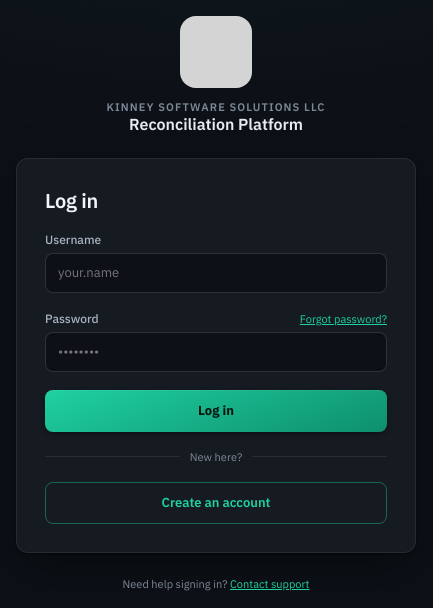
Test case: App › navigates from login to the Contact Support placeholder via the footer link
Click the link "Contact support": point(270, 584) [230,576,309,590]
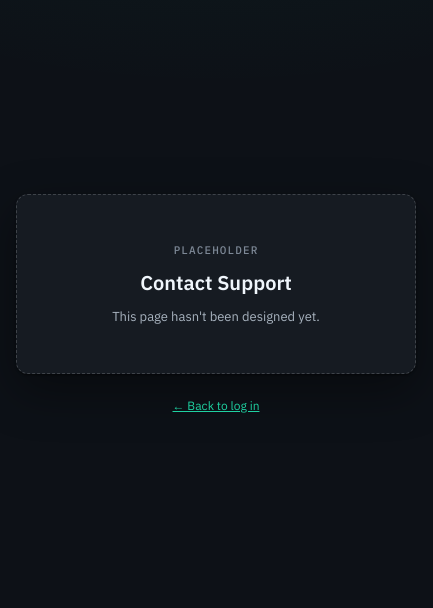
Expected: the heading "Contact Support" is shown, [140,268,292,296]
